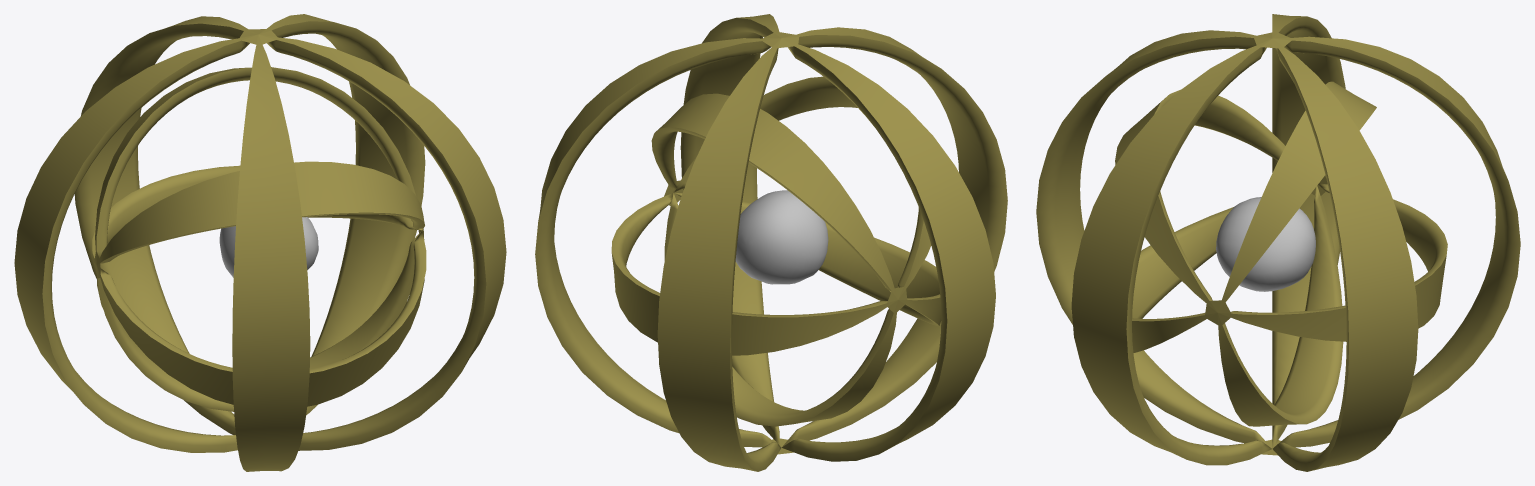
Rendered from Vif D'or.fbx.
The picture shows the model from 3 angles, left to right: view 1: azimuth 30°, elevation 25°; view 2: azimuth 150°, elevation 25°; view 3: azimuth 270°, elevation 25°; orthographic projection.
Visible parts, largest first — view 1: pSphere1, pSphere2, pSphere3; view 2: pSphere1, pSphere2, pSphere3; view 3: pSphere1, pSphere2, pSphere3.
Part boxes in pixels (x1=…): pSphere1: x1=14, y1=14, x2=506, y2=471; pSphere2: x1=92, y1=67, x2=426, y2=411; pSphere3: x1=219, y1=217, x2=318, y2=277; pSphere1: x1=535, y1=14, x2=1007, y2=471; pSphere2: x1=611, y1=76, x2=941, y2=426; pSphere3: x1=735, y1=190, x2=828, y2=284; pSphere1: x1=1036, y1=14, x2=1520, y2=471; pSphere2: x1=1115, y1=81, x2=1447, y2=426; pSphere3: x1=1216, y1=197, x2=1315, y2=291.
Bounding box in the file's own units: 2.41 × 2.26 × 2.41.
